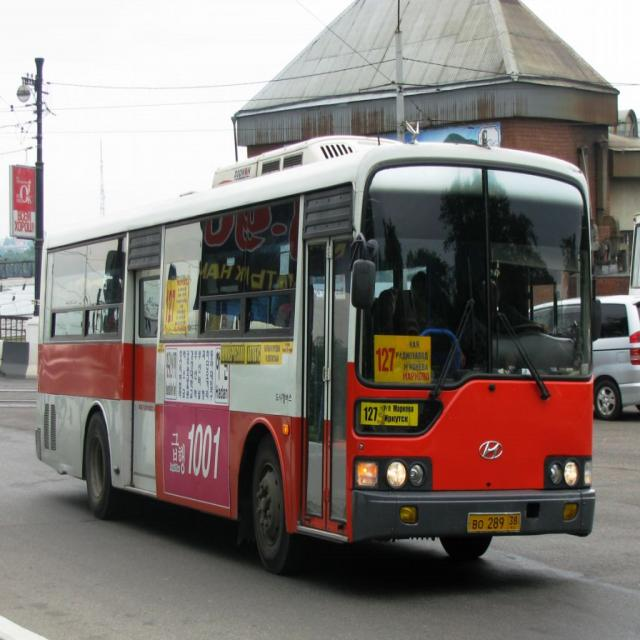number-of-bus: (375, 346, 397, 376), (365, 406, 380, 424)
